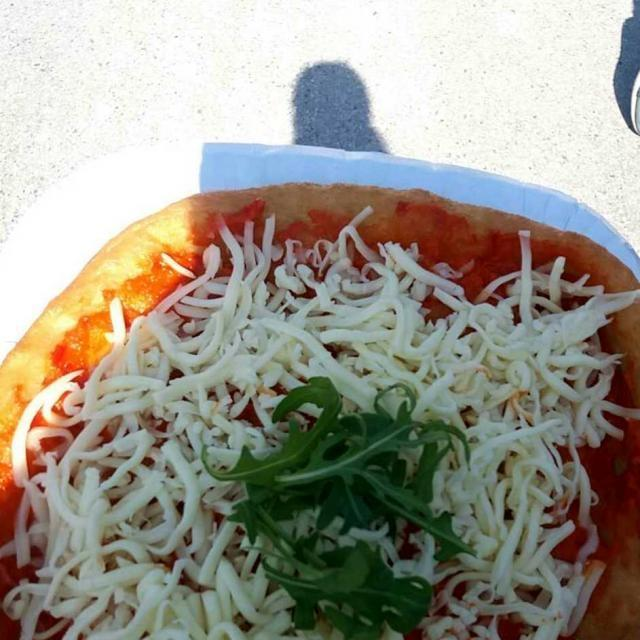bread: (2, 194, 623, 634)
cheese: (50, 240, 592, 626)
salad: (212, 389, 479, 618)
